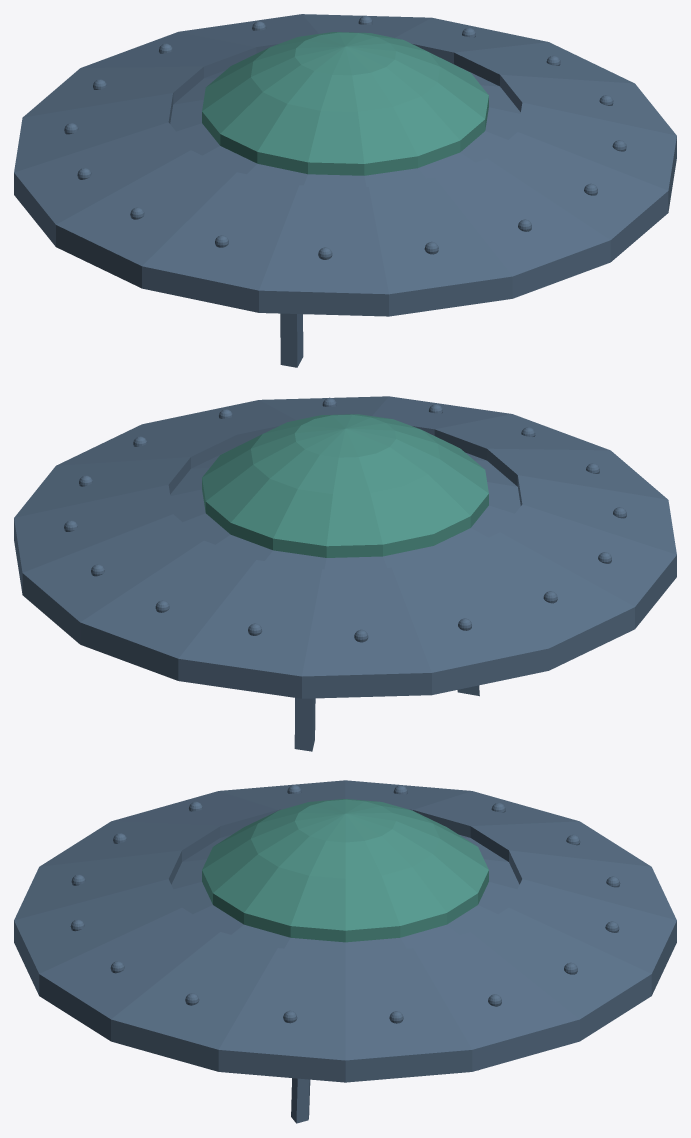
The model's file is ke dich.fbx.
The picture shows the model from 3 angles, top to bottom: view 1: azimuth 30°, elevation 25°; view 2: azimuth 150°, elevation 25°; view 3: azimuth 270°, elevation 25°; orthographic projection.
Visible parts, largest first — view 1: Circle.001; view 2: Circle.001; view 3: Circle.001.
Part boxes in pixels (x1,y1,x2,y2): Circle.001: (14, 14, 676, 367); Circle.001: (14, 396, 676, 751); Circle.001: (14, 780, 676, 1123).
Bounding box in the file's own units: 1414 × 627 × 1414.
